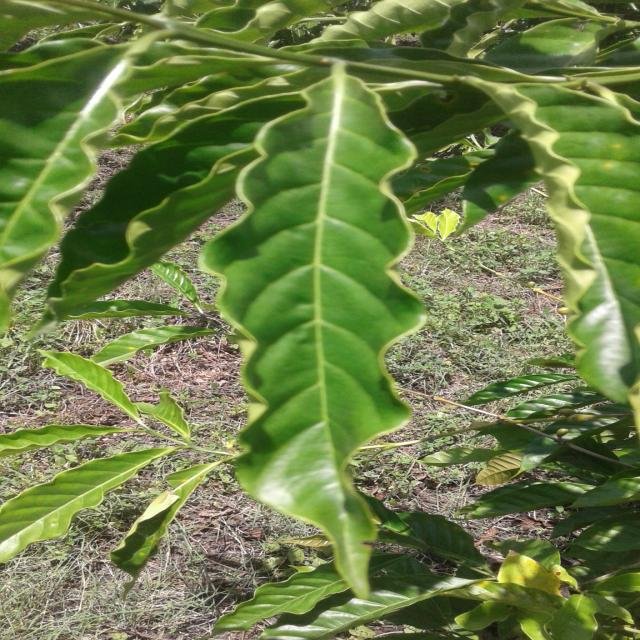Sanas: (199, 80, 426, 602)
